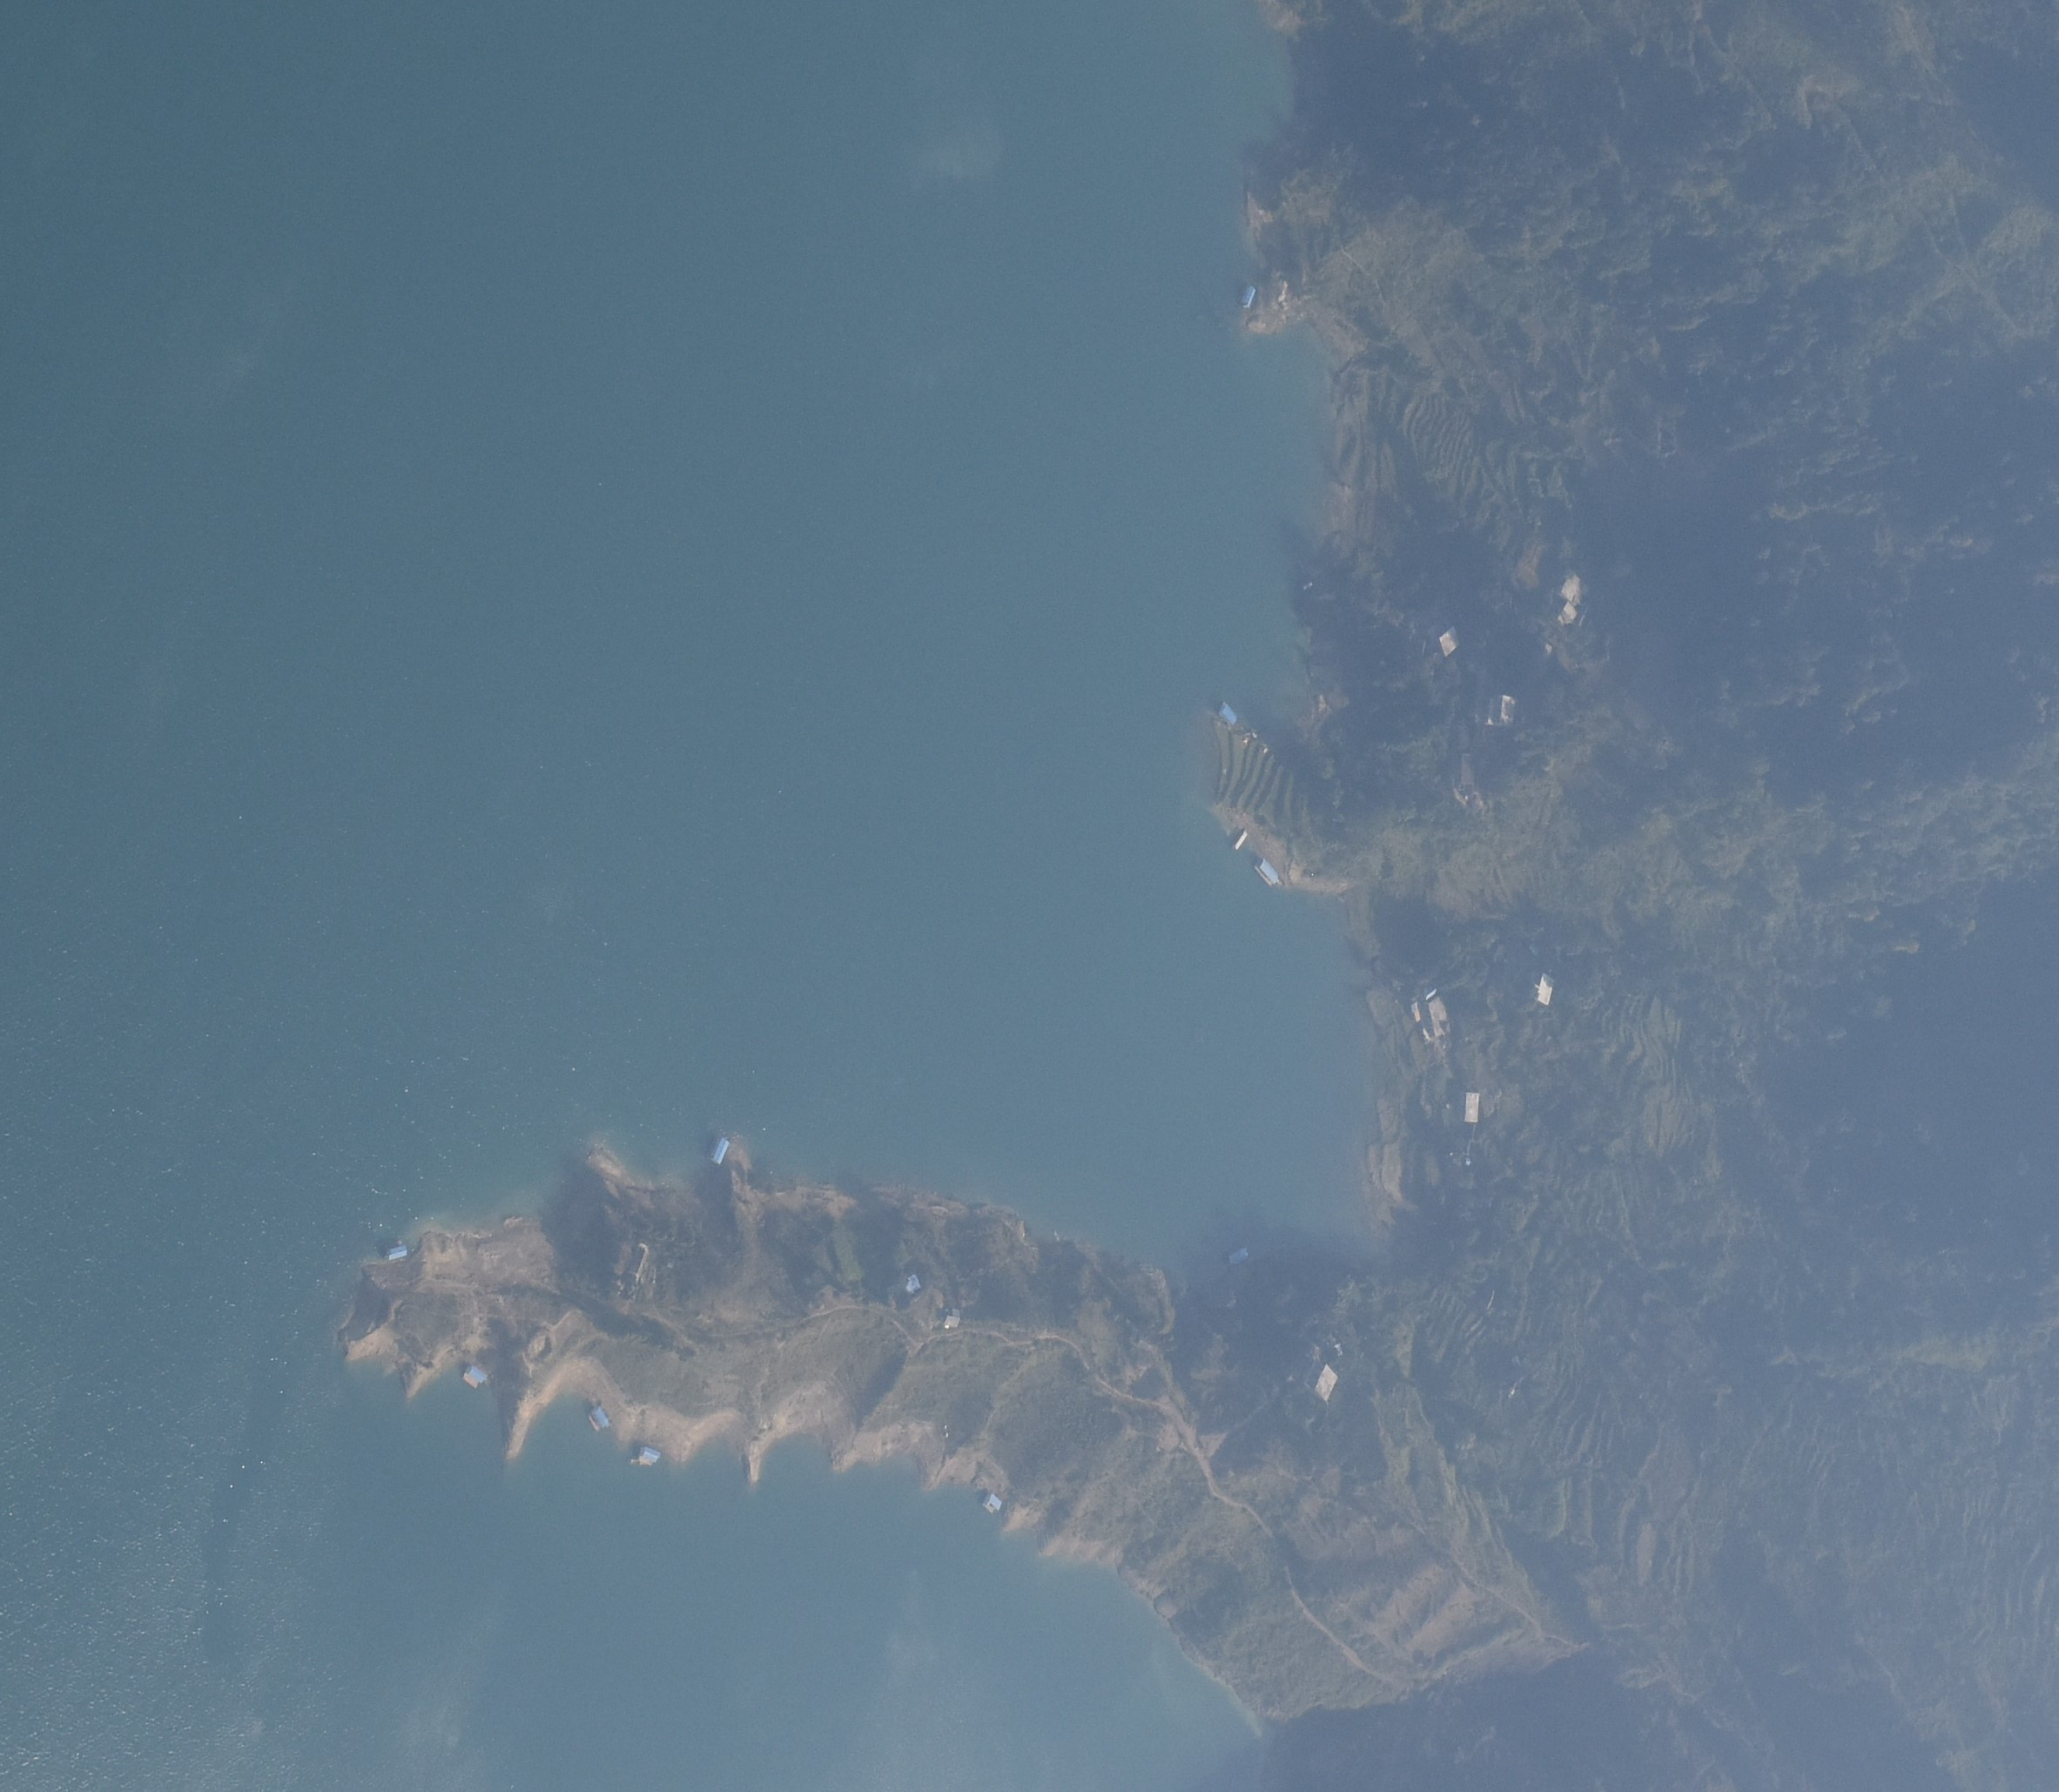building: (1411, 986, 1453, 1046), (1562, 569, 1593, 627), (1310, 1361, 1339, 1403), (627, 1240, 648, 1288), (1486, 694, 1516, 727), (1437, 624, 1460, 659), (1535, 972, 1555, 1005), (1462, 1093, 1481, 1123), (1233, 829, 1250, 850), (944, 1307, 959, 1326)
prefabricated-house: (1254, 860, 1280, 886), (462, 1366, 487, 1389), (587, 1407, 609, 1431), (1217, 701, 1238, 727), (711, 1139, 730, 1165), (637, 1447, 660, 1466), (980, 1492, 1003, 1512), (1227, 1247, 1248, 1265), (1240, 286, 1257, 307), (387, 1244, 406, 1259), (907, 1273, 921, 1295)
